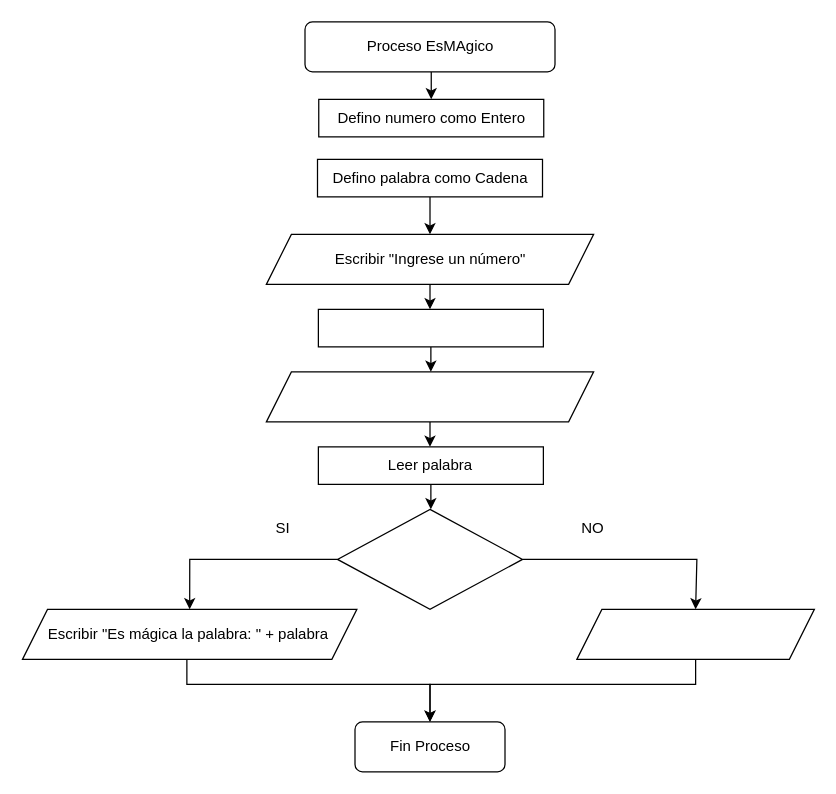
Image size: 836x794. Some labels were removed from this diagram. Each missing label, with the box of its shape:
Escribir "Ingrese una palabra": (265, 371, 594, 422)
Escribir "Nada es mágico": (576, 608, 814, 659)
Leer numero: (317, 308, 543, 347)
numero > 10: (336, 508, 522, 609)
